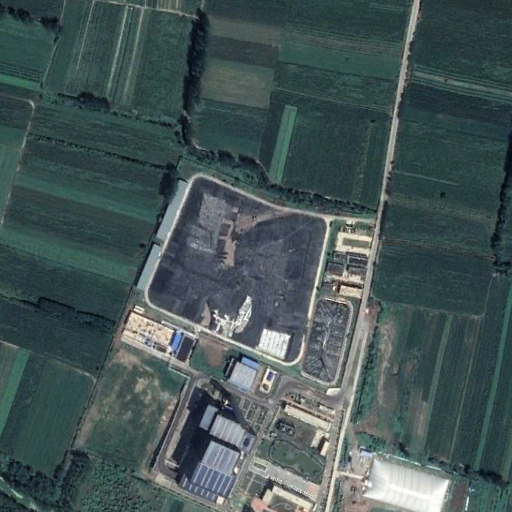lf: (146, 176, 330, 366)
